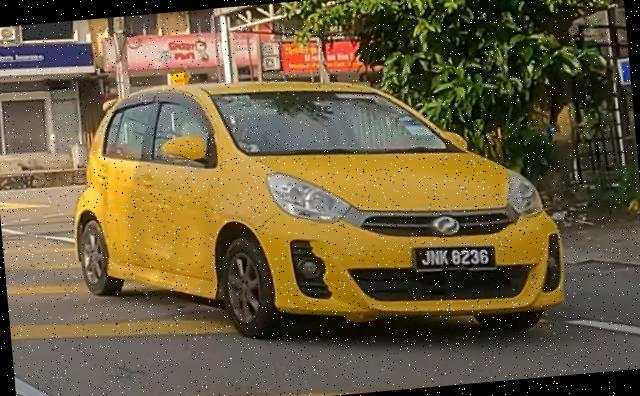License_Plate: (412, 242, 499, 278)
car: (62, 52, 571, 369)
